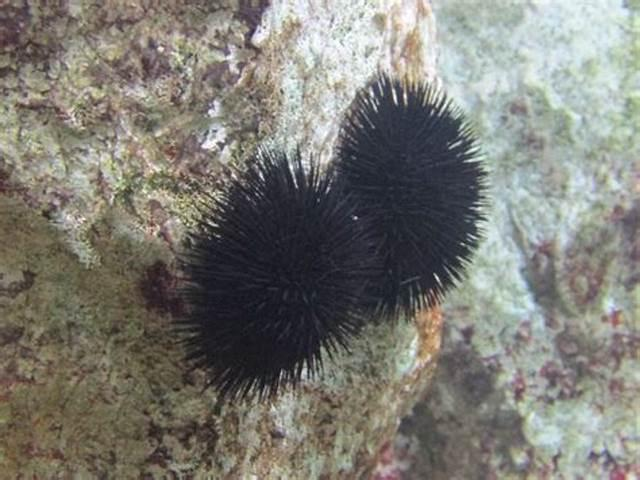urchin: (191, 151, 373, 394), (333, 71, 483, 325)
